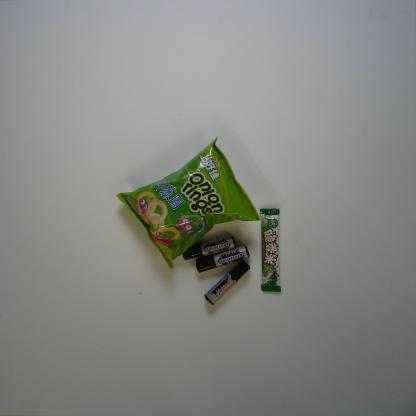Chocolate: (258, 207, 282, 296)
Puffed Food: (115, 132, 261, 269)
Stationery: (203, 259, 251, 305), (193, 244, 250, 274), (180, 234, 237, 261)
